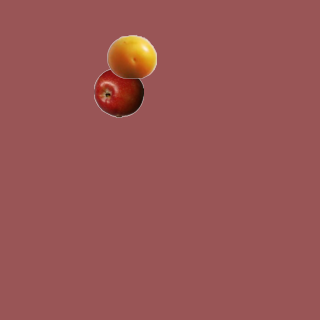Apple Braeburn: (93, 67, 143, 117)
Cherry Wax Yellow: (106, 31, 156, 81)
